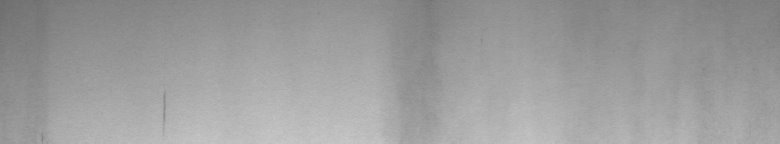ka: (163, 93, 166, 120)
